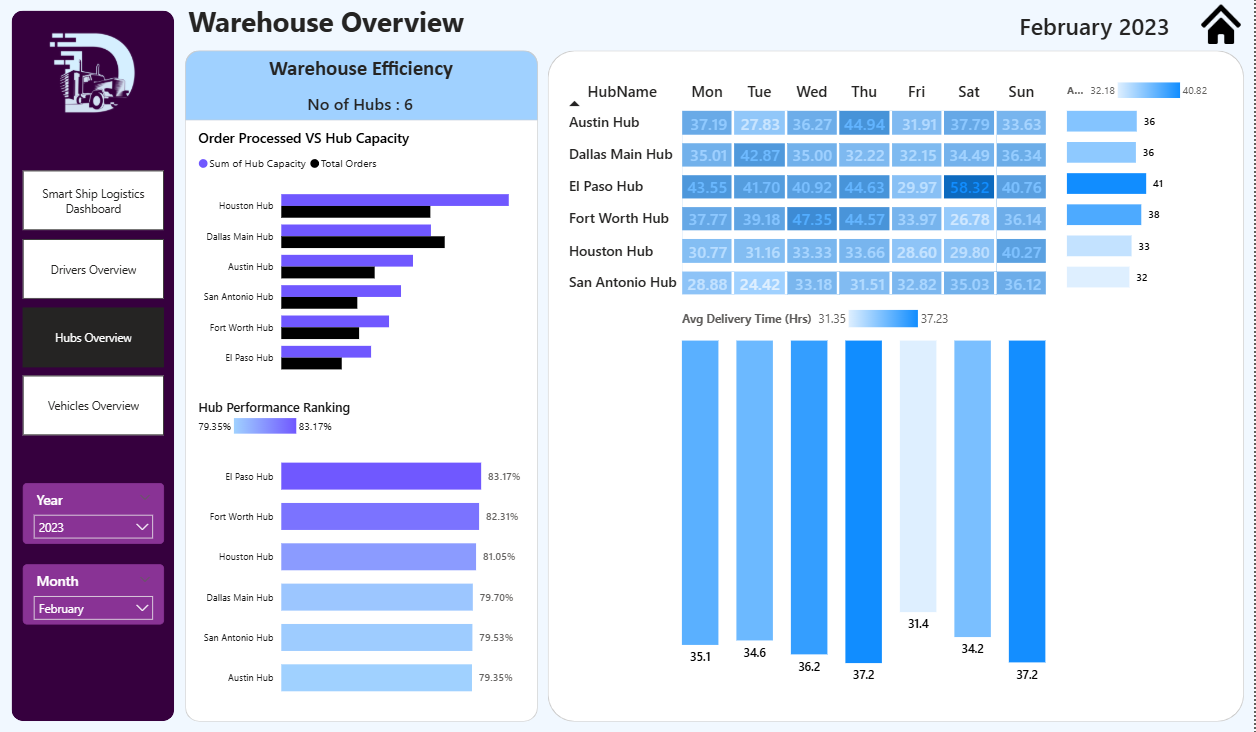

The page's visual inventory and layout, read from the dashboard file:
{"tool":"powerbi","page":{"name":"Hubs Overview","canvas":[1450,850],"ordinal":2},"visuals":[{"type":"shape","box":[14,14,188,820.8],"z":0},{"type":"textbox","box":[214.3,0,510,60],"z":1000},{"type":"slicer","fields":{"Values":["Date Table.Year"]},"box":[27.4,560.1,163.1,70.7],"z":2000},{"type":"slicer","fields":{"Values":["Date Table.Month"]},"box":[27.4,654,163.1,69.3],"z":3000},{"type":"shape","box":[215.1,60.6,407.1,775.2],"z":4000},{"type":"shape","box":[215.1,60.6,407.1,80.8],"z":5000},{"type":"textbox","box":[259.9,60.6,316.2,40.4],"z":6000},{"type":"cardVisual","fields":{"Data":["Hubs.No of Hubs"]},"box":[329.1,101.1,176.1,40.4],"z":7000},{"type":"clusteredBarChart","title":"Order Processed VS Hub Capacity","fields":{"Category":["Hubs.HubName"],"Y":["Sum(Hubs.Hub Capacity)","Orders.Total Orders"]},"box":[225.2,150.1,382.6,298.8],"z":8000},{"type":"barChart","title":"Hub Performance Ranking","fields":{"Category":["Hubs.HubName"],"Y":["Orders.On Time Delivery Rate"]},"box":[225.2,462,382.6,363.8],"z":9000},{"type":"image","box":[44.3,30,128.6,120],"z":10000},{"type":"cardVisual","fields":{"Data":["Orders.Year Month Title"]},"box":[1157.8,7.2,215.1,46.2],"z":11000},{"type":"image","box":[1372.9,0,76.5,60.6],"z":12000},{"type":"shape","box":[633.7,60.6,804.1,775.2],"z":15001},{"type":"pivotTable","fields":{"Rows":["Hubs.HubName"],"Columns":["Date Table.Day"],"Values":["Orders.Avg Delivery Time (Hrs)"]},"box":[648.2,89.5,580.3,262.7],"z":15002},{"type":"columnChart","fields":{"Category":["Date Table.Day"],"Y":["Orders.Avg Delivery Time (Hrs)"]},"box":[783.9,352.2,431.6,447.5],"z":15003},{"type":"barChart","fields":{"Category":["Hubs.HubName"],"Y":["Orders.Avg Delivery Time (Hrs)"]},"box":[1228.5,89.5,193.4,251.2],"z":15004},{"type":"pageNavigator","box":[27.4,199.2,163.1,307.5],"z":15005}]}

Visuals, with their boxes in screenshot pixels (x1, y1, x2, y2), scaled from the page's 1450x850 canvas onto the 1256x732 screenshot:
shape: region(12, 12, 175, 719)
textbox: region(186, 0, 627, 52)
slicer - Date Table.Year: region(24, 482, 165, 543)
slicer - Date Table.Month: region(24, 563, 165, 623)
shape: region(186, 52, 539, 720)
shape: region(186, 52, 539, 122)
textbox: region(225, 52, 499, 87)
cardVisual - Hubs.No of Hubs: region(285, 87, 438, 122)
"Order Processed VS Hub Capacity" clusteredBarChart: region(195, 129, 526, 387)
"Hub Performance Ranking" barChart: region(195, 398, 526, 711)
image: region(38, 26, 150, 129)
cardVisual - Orders.Year Month Title: region(1003, 6, 1189, 46)
image: region(1189, 0, 1255, 52)
shape: region(549, 52, 1245, 720)
pivotTable - Hubs.HubName x Date Table.Day: region(561, 77, 1064, 303)
columnChart - Date Table.Day x Orders.Avg Delivery Time (Hrs): region(679, 303, 1053, 689)
barChart - Hubs.HubName x Orders.Avg Delivery Time (Hrs): region(1064, 77, 1232, 293)
pageNavigator: region(24, 172, 165, 436)
